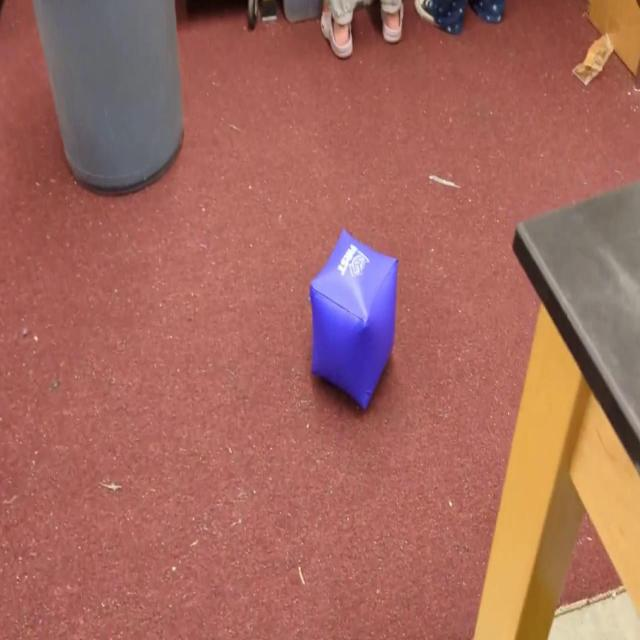frc_cube: (308, 231, 401, 414)
